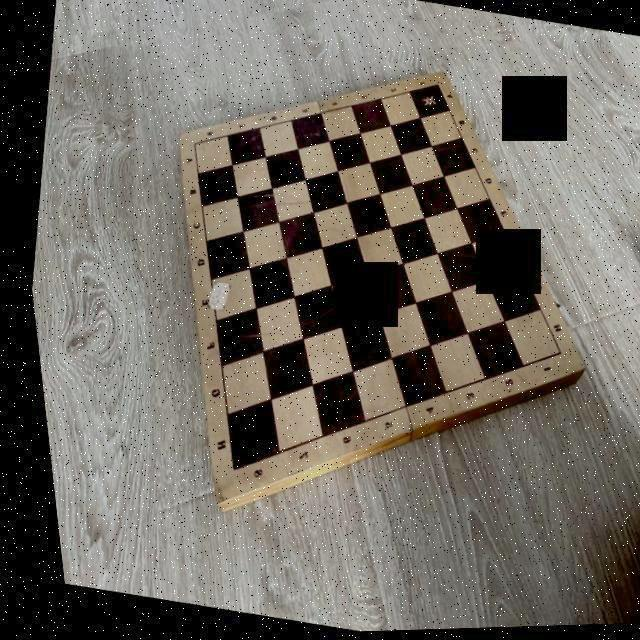chess-table-corners: (186, 140, 197, 151), (218, 466, 228, 476), (546, 352, 556, 361), (432, 83, 439, 92)
